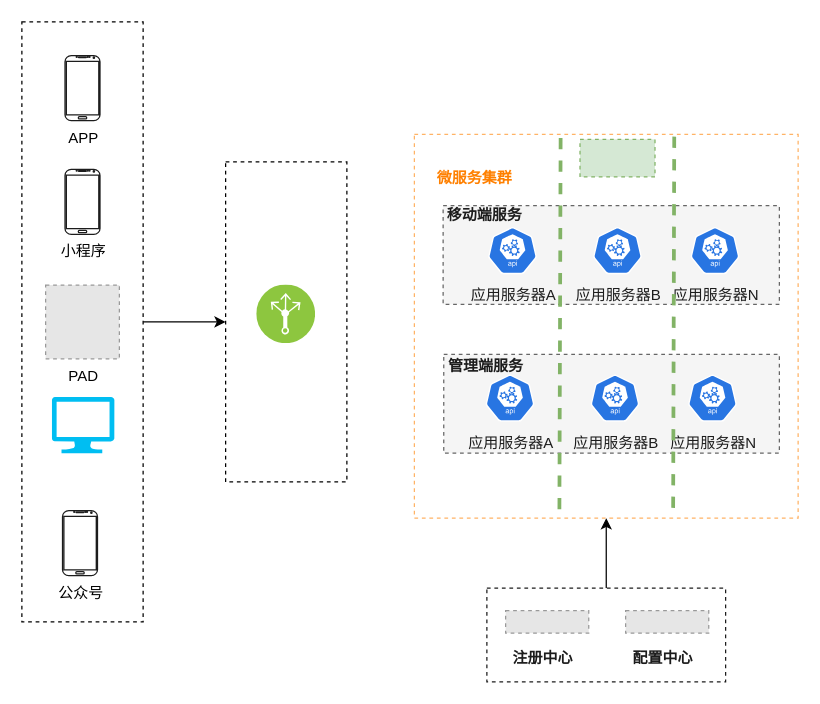
The diagram is 820 pixels wide and 704 high, and some of its shapes have lost their labels. Grey dashed boxes stand in for pictures. Each missing label, with the centre of its shape:
"ECS" goes at pixel 617 157.
"管理后台" goes at pixel 82 424.
"阿里负载均衡" goes at pixel 285 313.
